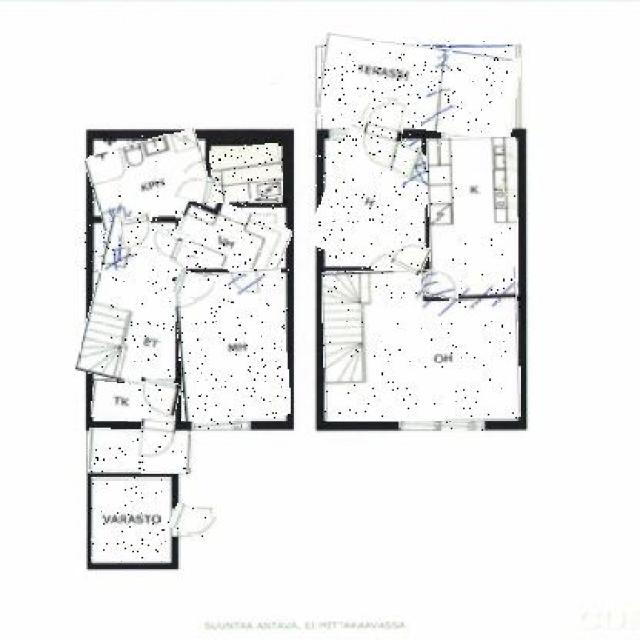door: (323, 268, 520, 420), (317, 40, 518, 134), (175, 271, 288, 420), (315, 132, 434, 271), (85, 220, 182, 385), (428, 138, 518, 296), (89, 136, 209, 224), (176, 198, 290, 277), (91, 477, 171, 561), (89, 429, 191, 474), (211, 145, 283, 203), (91, 382, 177, 423)
window: (362, 100, 404, 171), (171, 506, 217, 539), (138, 378, 178, 414), (138, 420, 174, 460), (174, 272, 214, 303), (394, 238, 428, 274), (120, 215, 152, 248), (174, 176, 214, 202), (424, 271, 462, 298), (149, 232, 182, 257)
zone: (399, 418, 483, 431), (440, 126, 498, 140), (192, 420, 248, 429), (329, 130, 363, 138)
